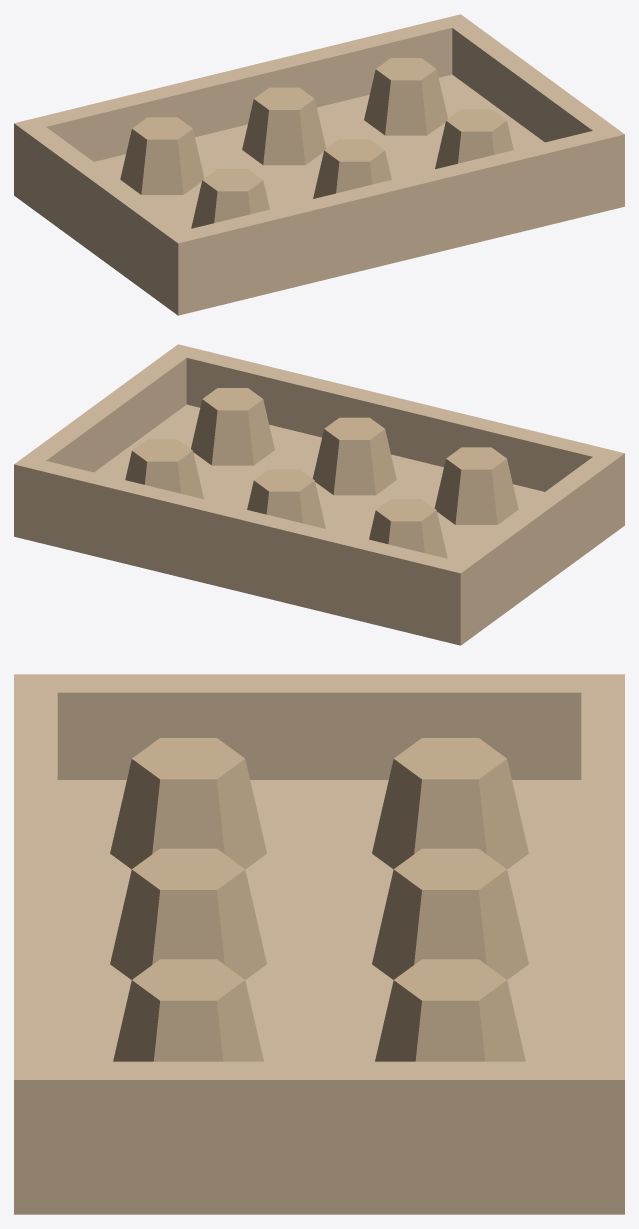
File: prop-jar-stopper-tray.fbx
3 views of the same model, one above another, from view 1: azimuth 30°, elevation 25°; view 2: azimuth 150°, elevation 25°; view 3: azimuth 270°, elevation 25° (orthographic). The views are drawn at different scales.
Parts seen in each view (by area): view 1: prop-jar-stopper-tray; view 2: prop-jar-stopper-tray; view 3: prop-jar-stopper-tray.
Part boxes in pixels (left/top/right/bottom): prop-jar-stopper-tray: left=14, top=14, right=624, bottom=315; prop-jar-stopper-tray: left=14, top=344, right=624, bottom=645; prop-jar-stopper-tray: left=14, top=674, right=624, bottom=1214.
Bounding box in the file's own units: 22 × 3.6 × 14.
